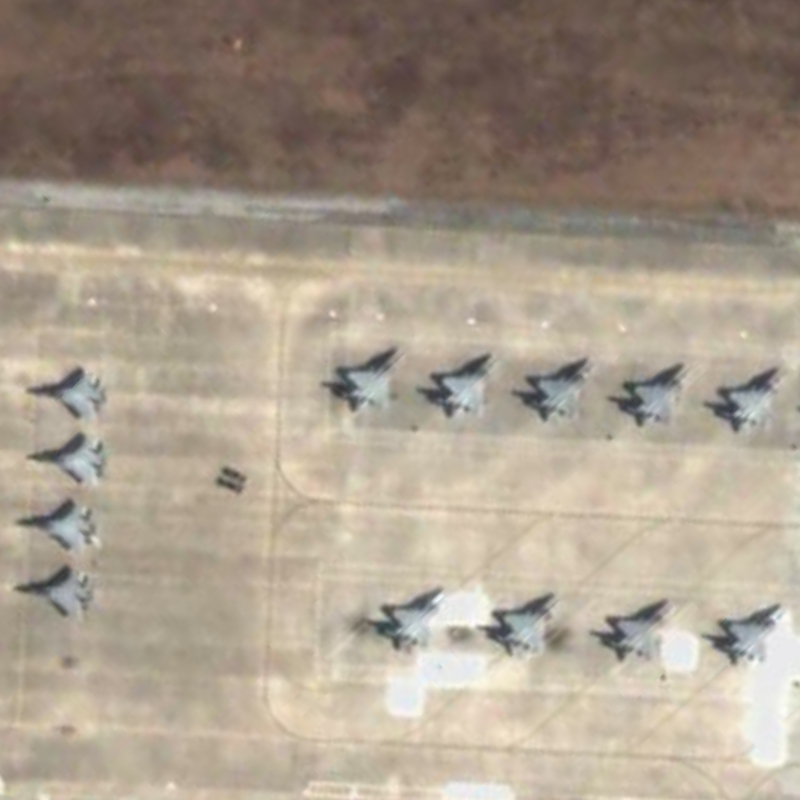A13: (598, 595, 680, 667), (483, 592, 566, 659), (373, 585, 451, 656), (713, 369, 792, 437), (11, 498, 104, 555), (621, 362, 697, 431), (334, 345, 405, 416), (11, 564, 99, 621), (22, 366, 111, 422), (713, 604, 789, 669), (428, 353, 498, 423), (22, 433, 111, 487), (529, 358, 598, 424)
